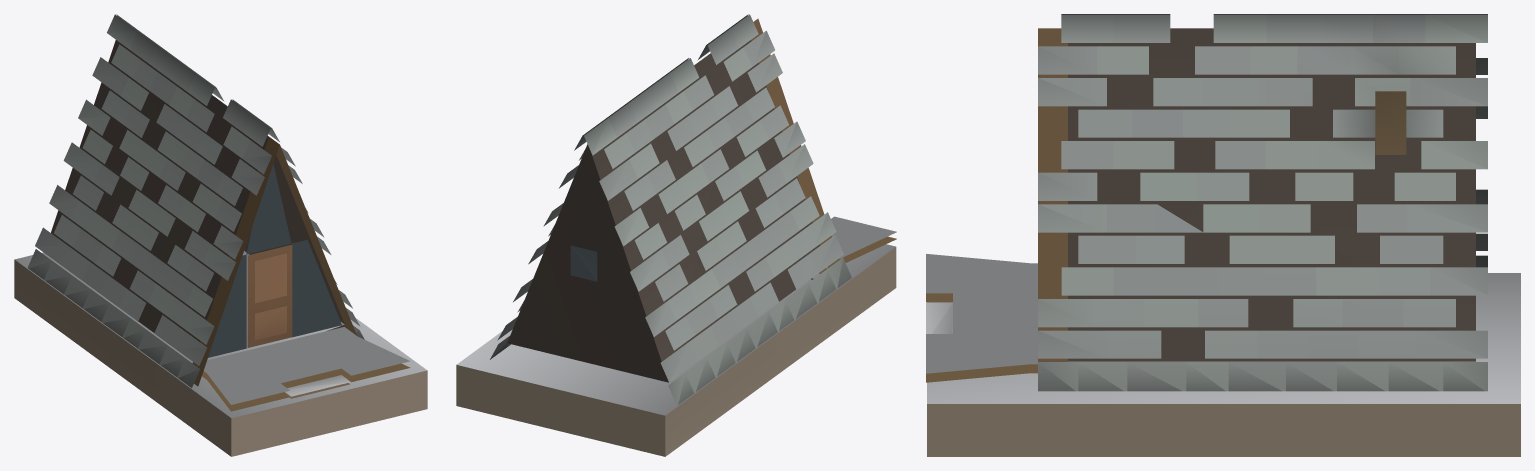
The model's file is aframe.lod.glb.
3 renders of one model, left to right at view 1: azimuth 30°, elevation 25°; view 2: azimuth 150°, elevation 25°; view 3: azimuth 270°, elevation 25°, orthographic. The views are drawn at different scales.
Parts seen in each view (by area): view 1: aframe; view 2: aframe; view 3: aframe.
Boxes of the visible parts, <box> form: aframe: <box>14,14,427,456</box>; aframe: <box>456,14,896,456</box>; aframe: <box>926,14,1520,456</box>.
Bounding box in the file's own units: 5.48 × 7.21 × 10.48.
